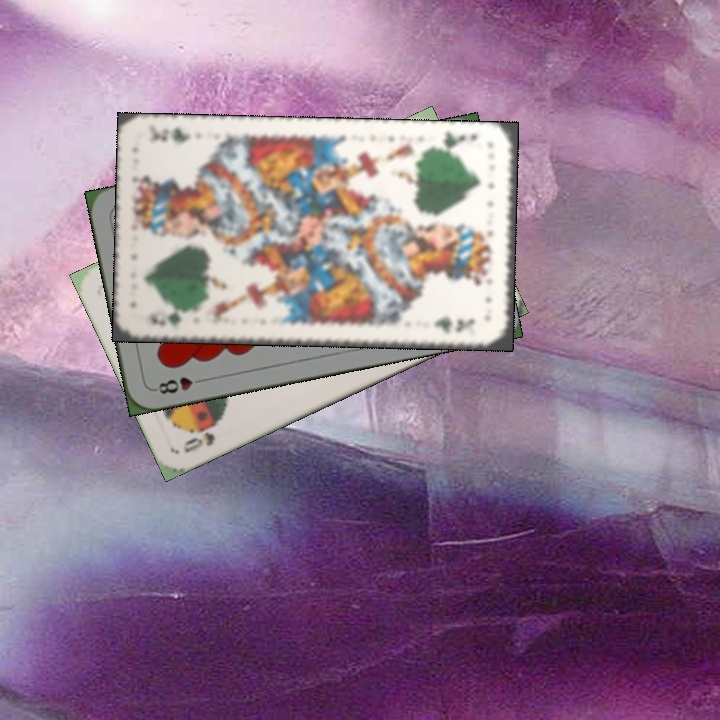GK: (432, 128, 480, 155), (145, 307, 197, 328)
H8: (150, 372, 209, 397)
SO: (179, 419, 220, 456)
